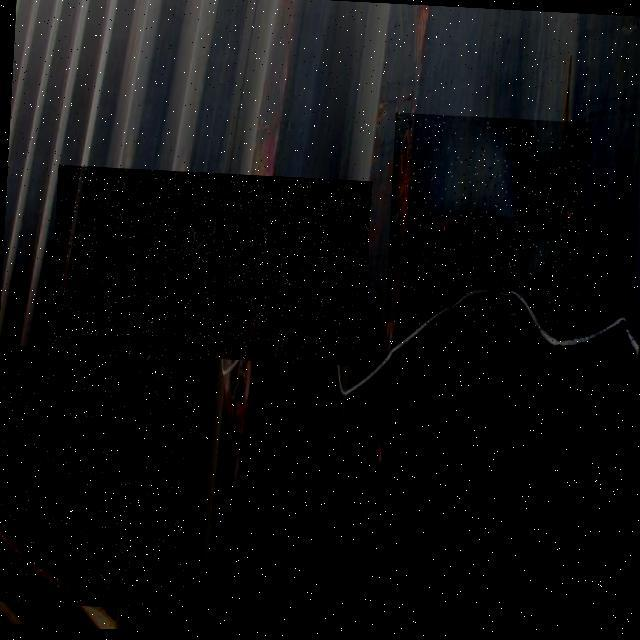Dent: (49, 165, 372, 366), (385, 113, 592, 333)
Minor-Dent: (0, 346, 199, 612)
